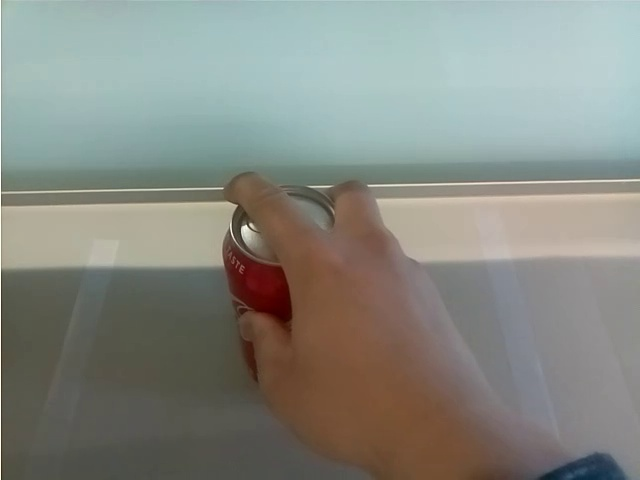cocacola: (219, 191, 338, 388)
hand: (220, 169, 495, 466)
